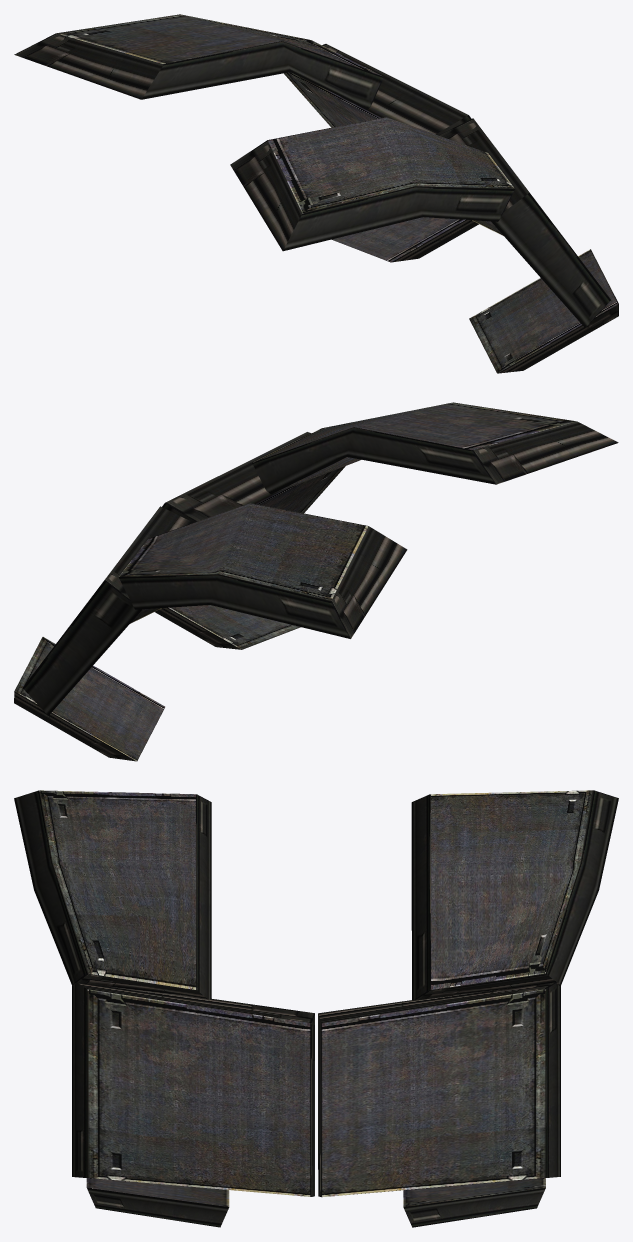
Rendered from light_unit_iron.obj.
3 renders of one model, top to bottom at view 1: azimuth 30°, elevation 25°; view 2: azimuth 150°, elevation 25°; view 3: azimuth 270°, elevation 25°, orthographic. The views are drawn at different scales.
Visible parts, largest first — view 1: polySurface33; view 2: polySurface33; view 3: polySurface33.
Boxes of the visible parts, x1,y1,x2,y2 form: polySurface33: (14, 14, 618, 373); polySurface33: (14, 402, 618, 761); polySurface33: (14, 790, 618, 1227).
Bounding box in the file's own units: 17.09 × 9.97 × 19.46.
Materials: 1 (1 with a texture image).
